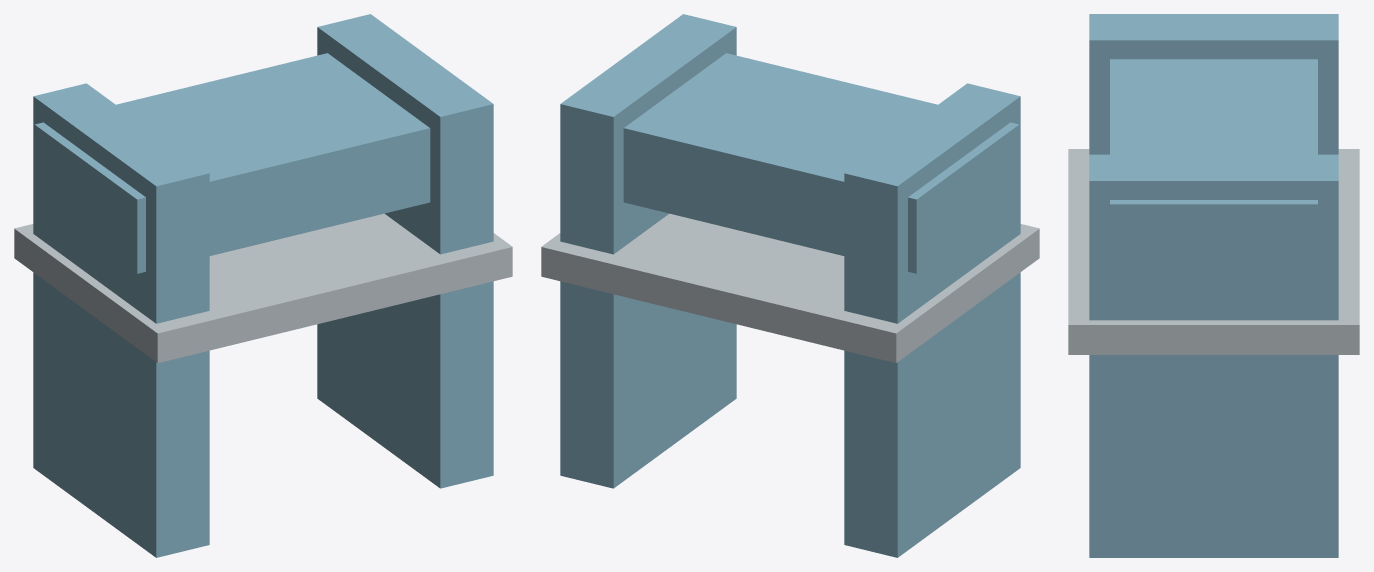
Rendered from press_brake.glb.
3 views of the same model, side by side, from view 1: azimuth 30°, elevation 25°; view 2: azimuth 150°, elevation 25°; view 3: azimuth 270°, elevation 25° (orthographic).
Bounding box in the file's own units: 1 × 1 × 0.7.
